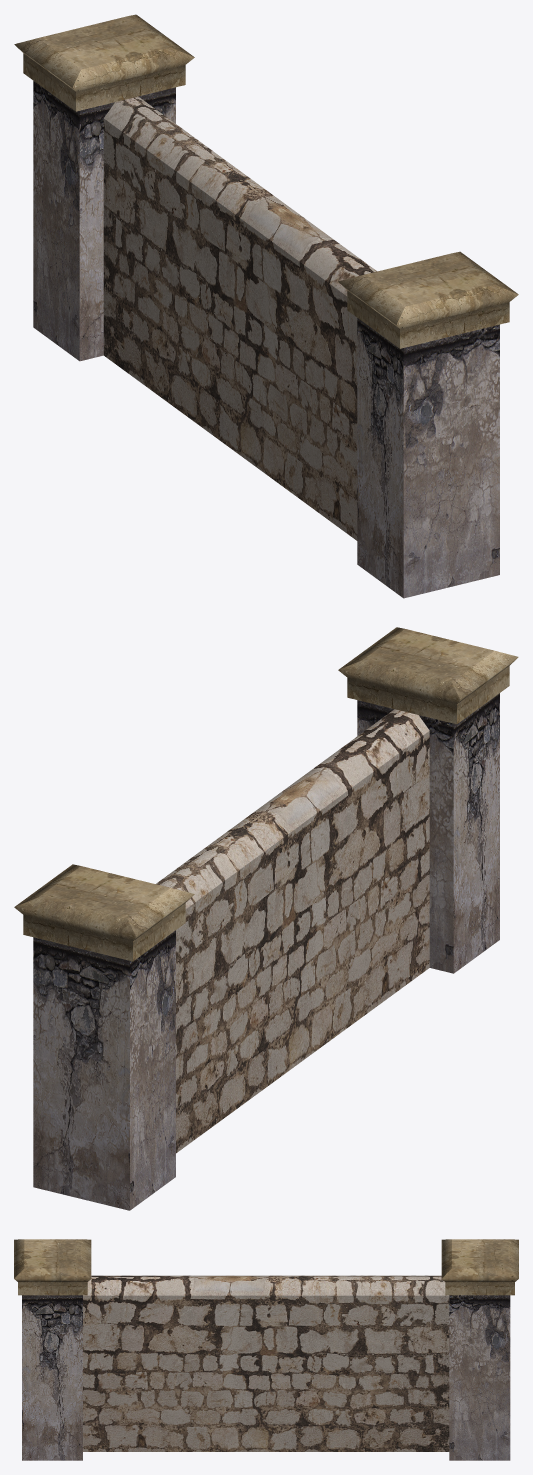
The model's file is Wall_Segment_01_ALT.fbx.
The picture shows the model from 3 angles, top to bottom: view 1: azimuth 30°, elevation 25°; view 2: azimuth 150°, elevation 25°; view 3: azimuth 270°, elevation 25°; orthographic projection. The views are drawn at different scales.
Visible parts, largest first — view 1: Wall_Segment; view 2: Wall_Segment; view 3: Wall_Segment.
Part boxes in pixels (x1,y1,x2,y2): Wall_Segment: [14, 14, 518, 598]; Wall_Segment: [14, 627, 518, 1210]; Wall_Segment: [14, 1239, 518, 1460].
Bounding box in the file's own units: 1.53 × 3.45 × 8.27.
